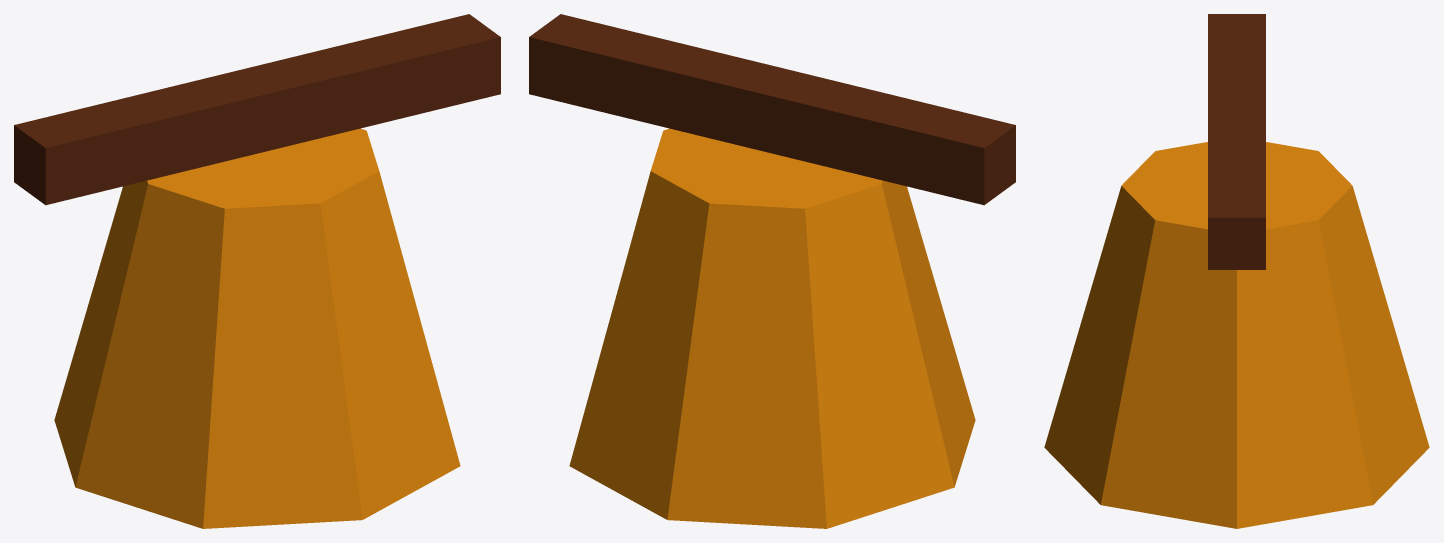
File: cow_bell.obj
The picture shows the model from 3 angles, left to right: view 1: azimuth 30°, elevation 25°; view 2: azimuth 150°, elevation 25°; view 3: azimuth 270°, elevation 25°; orthographic projection. The views are drawn at different scales.
Parts seen in each view (by area): view 1: cow_bell; view 2: cow_bell; view 3: cow_bell.
Boxes of the visible parts, x1=… form: cow_bell: x1=14, y1=14, x2=500, y2=528; cow_bell: x1=529, y1=14, x2=1015, y2=528; cow_bell: x1=1044, y1=14, x2=1429, y2=528.
Size of the model in its own units: 0.25 by 0.19 by 0.2.
